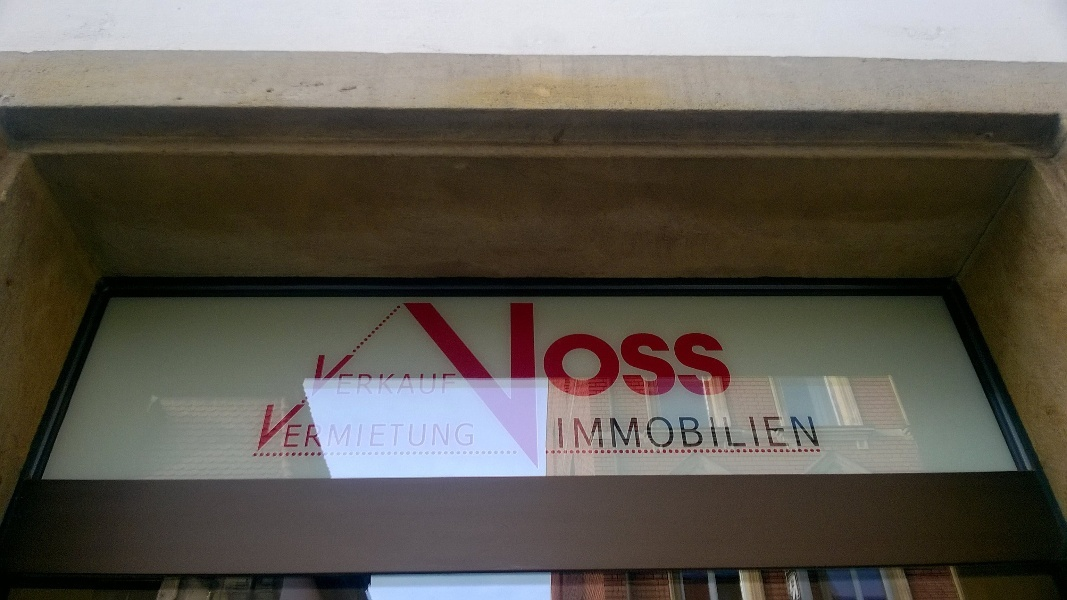text: (417, 303, 432, 470), (433, 303, 448, 470), (449, 303, 464, 470), (465, 303, 480, 470), (481, 303, 496, 470), (497, 303, 512, 470), (513, 303, 528, 470), (529, 303, 544, 470), (545, 303, 560, 470), (561, 303, 576, 470), (577, 303, 592, 470), (593, 303, 608, 470), (609, 303, 624, 470), (625, 303, 640, 470), (641, 303, 656, 470), (657, 303, 672, 470), (673, 303, 688, 470), (689, 303, 704, 470), (705, 303, 720, 470), (721, 303, 736, 470), (403, 303, 416, 470), (273, 405, 288, 453), (289, 405, 304, 453), (305, 405, 320, 453), (321, 405, 336, 453), (337, 405, 352, 453), (353, 405, 368, 453), (369, 405, 384, 453), (385, 405, 400, 453), (401, 405, 416, 453), (417, 405, 432, 453), (433, 405, 448, 453), (449, 405, 464, 453), (321, 354, 336, 398), (337, 354, 352, 398), (353, 354, 368, 398), (369, 354, 384, 398), (385, 354, 400, 398), (401, 354, 416, 398), (417, 354, 432, 398), (433, 354, 448, 398), (465, 405, 475, 453), (561, 417, 576, 448), (577, 417, 592, 448), (593, 417, 608, 448), (609, 417, 624, 448), (625, 417, 640, 448), (641, 417, 656, 448), (657, 417, 672, 448), (673, 417, 688, 448), (689, 417, 704, 448), (705, 417, 720, 448), (721, 417, 736, 448), (737, 417, 752, 448), (753, 417, 768, 448), (769, 417, 784, 448), (785, 417, 800, 448), (801, 417, 816, 448), (449, 354, 457, 398), (737, 303, 739, 470), (268, 405, 272, 453), (817, 417, 821, 448), (319, 354, 320, 398), (559, 417, 560, 448)
